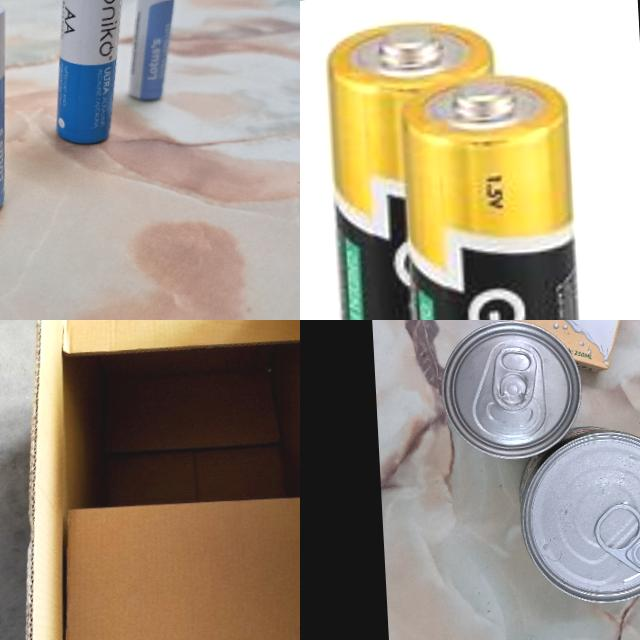aba de lata: (592, 501, 640, 576), (490, 346, 540, 411)
bateria: (321, 11, 600, 320), (45, 0, 136, 144), (122, 0, 189, 103)
lata: (513, 419, 640, 608), (440, 320, 586, 465)
papelão: (0, 320, 300, 640)
